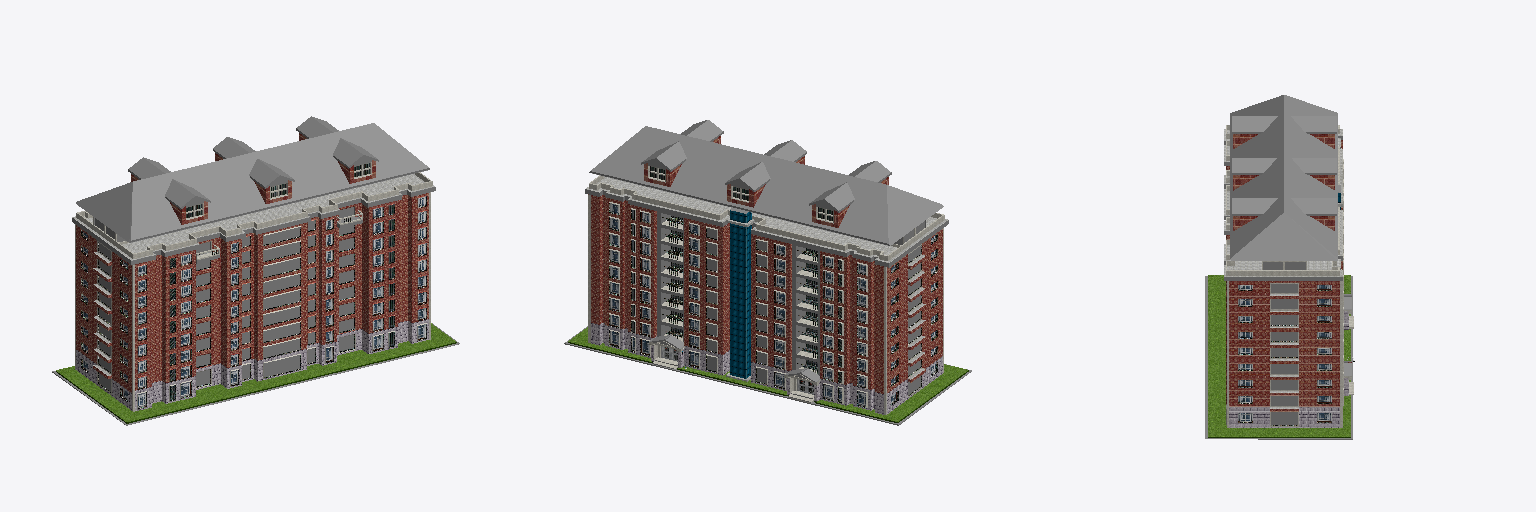
The picture shows the model from 3 angles: view 1: azimuth 30°, elevation 25°; view 2: azimuth 150°, elevation 25°; view 3: azimuth 270°, elevation 25°; orthographic projection.
Visible parts, largest first — view 1: low_building1; view 2: low_building1; view 3: low_building1.
Part boxes in pixels (x1,y1,x2,y2): low_building1: (52, 116, 459, 425); low_building1: (564, 120, 971, 425); low_building1: (1205, 95, 1354, 439).
Bounding box in the file's own units: 549 × 321 × 213.
Materials: 18 (13 with a texture image).